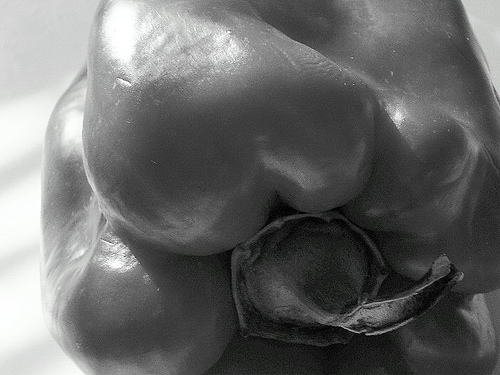capsicum: (40, 1, 499, 374)
